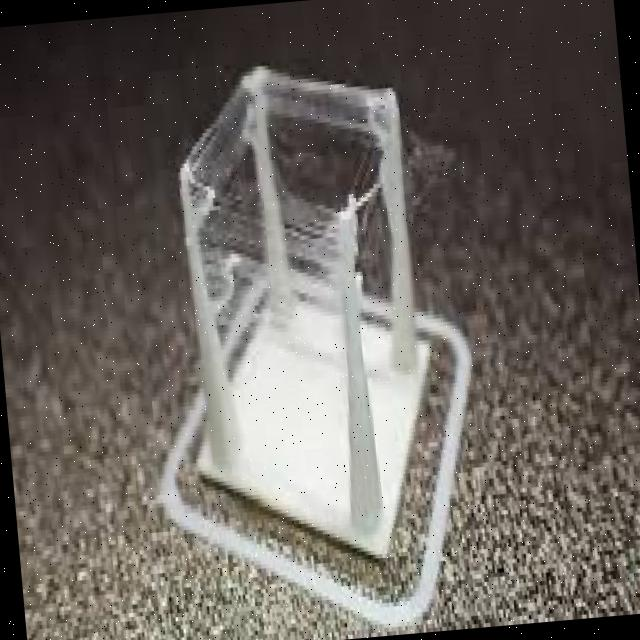stringing: (199, 172, 344, 380), (190, 161, 266, 358), (359, 141, 396, 362), (188, 80, 248, 216), (267, 75, 384, 136), (404, 127, 457, 218)
